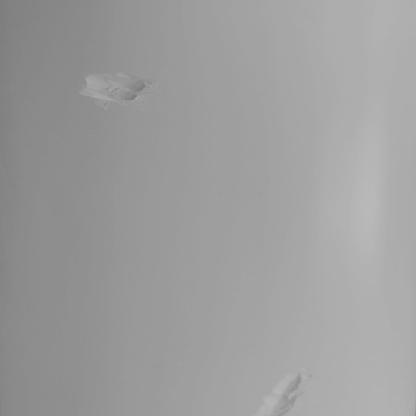sunshang: (78, 70, 152, 104), (255, 374, 309, 416)
